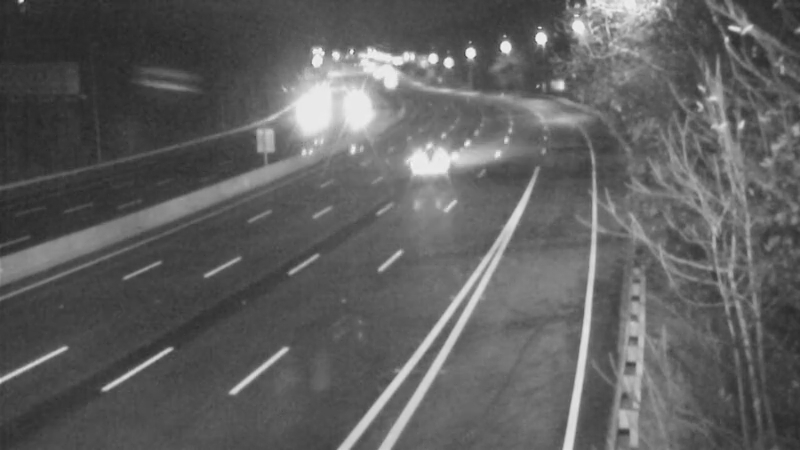vehicle: (396, 125, 476, 205), (363, 58, 413, 108), (281, 85, 331, 135), (337, 82, 387, 132)
